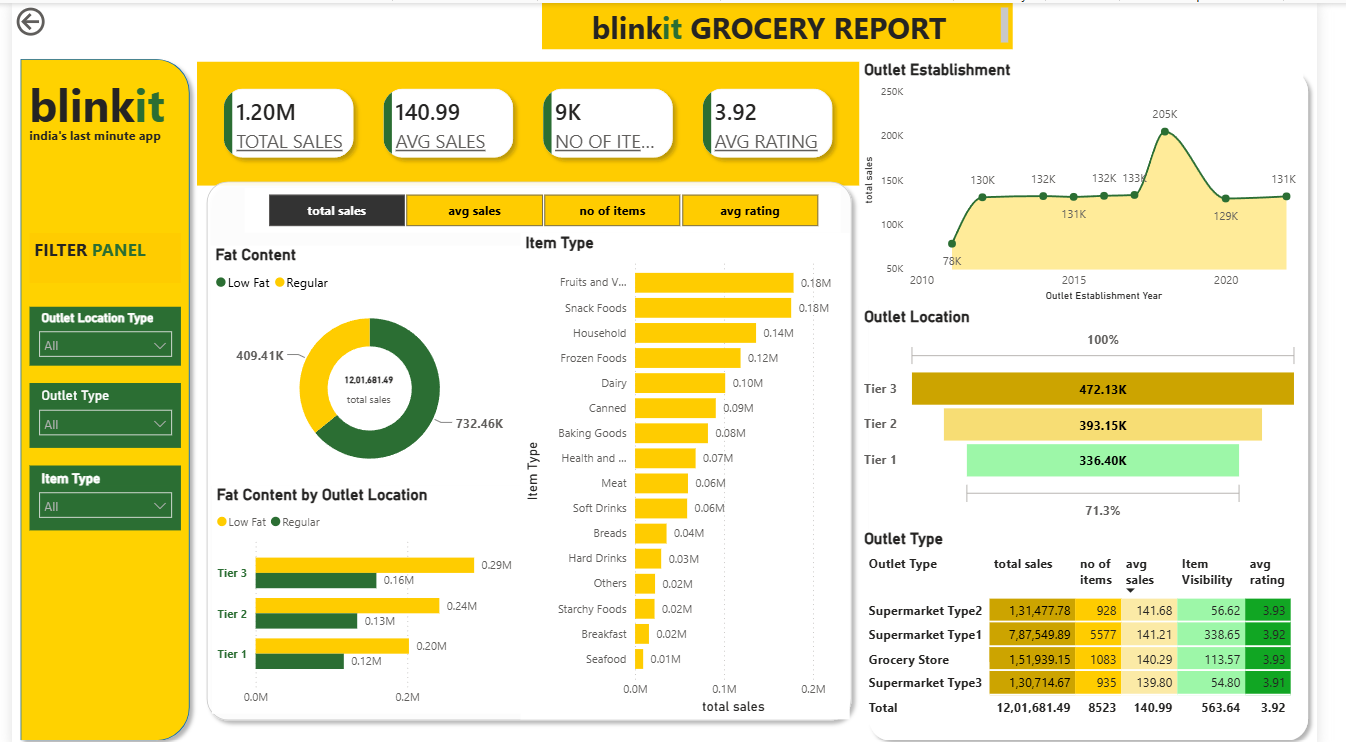

The dashboard page shown, as its layout file describes it:
{"tool":"powerbi","page":{"name":"Page 1","canvas":[1400,800],"ordinal":0},"visuals":[{"type":"shape","box":[0,50.3,199.6,749.7],"z":0},{"type":"textbox","box":[13.5,70.5,174.1,76.5],"z":1000},{"type":"textbox","box":[13.5,127.6,174.1,33],"z":2000},{"type":"cardVisual","fields":{"Data":["Sum(BlinkIT-Grocery-Data.Sales)","BlinkIT-Grocery-Data.avg sales","BlinkIT-Grocery-Data.no of items","BlinkIT-Grocery-Data.avg rating"]},"box":[198.4,63,710.5,132.7],"z":3000},{"type":"shape","box":[200.3,182.7,709.8,596],"z":4000},{"type":"donutChart","title":"Fat Content","fields":{"Y":["BlinkIT-Grocery-Data.total sales"],"Category":["BlinkIT-Grocery-Data.Item Fat Content"]},"box":[213.1,259.6,341.3,258],"z":5000},{"type":"slicer","fields":{"Values":["metrics.metrics"]},"box":[249.9,198.7,639.3,48.1],"z":6000},{"type":"card","fields":{"Values":["BlinkIT-Grocery-Data.total sales"]},"box":[351.2,383.4,63,59],"z":7000},{"type":"clusteredBarChart","title":" Fat Content by Outlet Location","fields":{"Y":["BlinkIT-Grocery-Data.total sales"],"Category":["BlinkIT-Grocery-Data.Outlet Location Type"],"Series":["BlinkIT-Grocery-Data.Item Fat Content"]},"box":[214.7,517.5,341.3,245.1],"z":8000},{"type":"textbox","box":[568.8,0,504.7,49.7],"z":9000},{"type":"barChart","title":" Item Type","fields":{"Y":["BlinkIT-Grocery-Data.total sales"],"Category":["BlinkIT-Grocery-Data.Item Type"]},"box":[545.6,246.7,352.5,521.5],"z":10000},{"type":"shape","box":[910.1,62.5,488.7,737],"z":11000},{"type":"lineChart","title":" Outlet Establishment ","fields":{"Y":["BlinkIT-Grocery-Data.total sales"],"Category":["BlinkIT-Grocery-Data.Outlet Establishment Year"]},"box":[909.4,62.1,476.1,263.2],"z":12000},{"type":"funnel","title":" Outlet Location ","fields":{"Category":["BlinkIT-Grocery-Data.Outlet Location Type"],"Y":["Sum(BlinkIT-Grocery-Data.Sales)"]},"box":[909.4,325.3,476.1,233.6],"z":13000},{"type":"pivotTable","title":"Outlet Type","fields":{"Rows":["BlinkIT-Grocery-Data.Outlet Type"],"Values":["BlinkIT-Grocery-Data.total sales","BlinkIT-Grocery-Data.no of items","BlinkIT-Grocery-Data.avg sales","Sum(BlinkIT-Grocery-Data.Item Visibility)","BlinkIT-Grocery-Data.avg rating"]},"box":[909.4,564.9,476.1,210],"z":14000},{"type":"slicer","fields":{"Values":["BlinkIT-Grocery-Data.Outlet Location Type"]},"box":[19.2,325.3,162.7,63.6],"z":15000},{"type":"slicer","fields":{"Values":["BlinkIT-Grocery-Data.Outlet Type"]},"box":[19.2,408.1,162.7,69.5],"z":16000},{"type":"actionButton","box":[0,0,100,40],"z":17000},{"type":"slicer","fields":{"Values":["BlinkIT-Grocery-Data.Item Type"]},"box":[19.2,495.4,162.7,69.5],"z":18000},{"type":"textbox","box":[19.2,246.9,162.7,53.2],"z":19000}]}

Visuals, with their boxes on the page's 1400x800 design canvas (x1, y1, x2, y2). These are canvas units, not pixel positions in the 1346x742 screenshot, which may show the page scaled, cropped or inside an application window:
shape: 0/50/200/800
textbox: 14/70/188/147
textbox: 14/128/188/161
cardVisual - Sum(BlinkIT-Grocery-Data.Sales) x BlinkIT-Grocery-Data.avg sales: 198/63/909/196
shape: 200/183/910/779
"Fat Content" donutChart: 213/260/554/518
slicer - metrics.metrics: 250/199/889/247
card - BlinkIT-Grocery-Data.total sales: 351/383/414/442
" Fat Content by Outlet Location" clusteredBarChart: 215/518/556/763
textbox: 569/0/1074/50
" Item Type" barChart: 546/247/898/768
shape: 910/62/1399/800
" Outlet Establishment " lineChart: 909/62/1386/325
" Outlet Location " funnel: 909/325/1386/559
"Outlet Type" pivotTable: 909/565/1386/775
slicer - BlinkIT-Grocery-Data.Outlet Location Type: 19/325/182/389
slicer - BlinkIT-Grocery-Data.Outlet Type: 19/408/182/478
actionButton: 0/0/100/40
slicer - BlinkIT-Grocery-Data.Item Type: 19/495/182/565
textbox: 19/247/182/300
